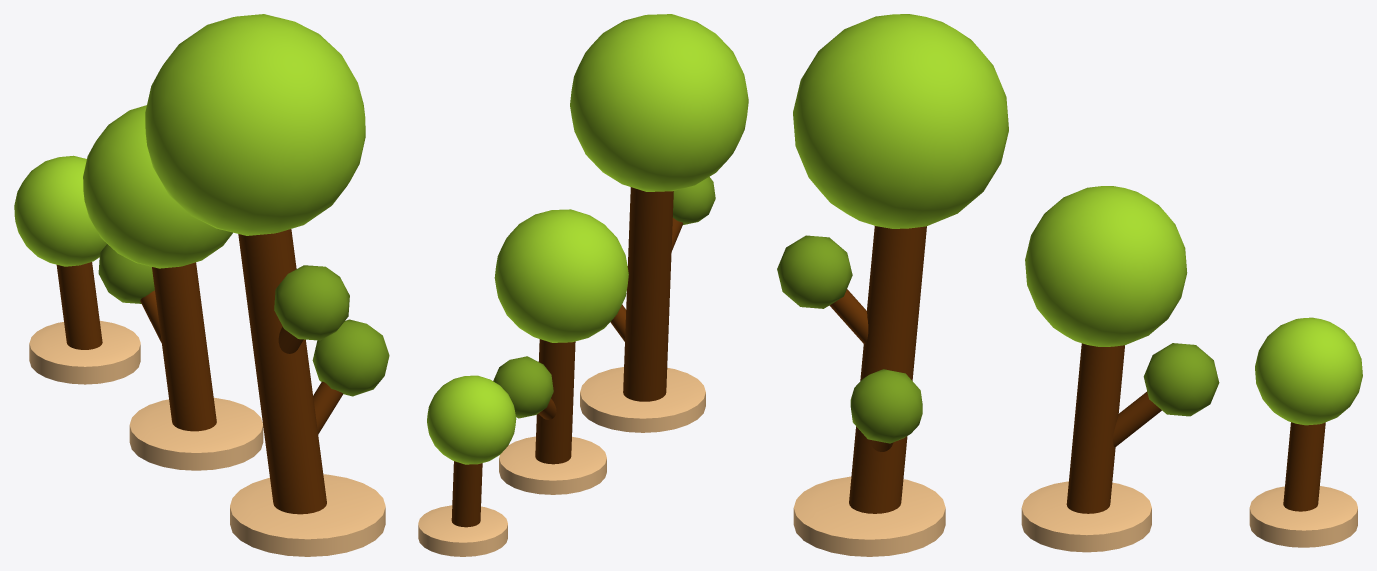
Rendered from Tree_Simple_Ek_LowPoly.fbx.
The picture shows the model from 3 angles, left to right: view 1: azimuth 30°, elevation 25°; view 2: azimuth 150°, elevation 25°; view 3: azimuth 270°, elevation 25°; orthographic projection. The views are drawn at different scales.
Visible parts, largest first — view 1: Oak_Large, Oak_Medium, Oak_Small; view 2: Oak_Large, Oak_Medium, Oak_Small; view 3: Oak_Large, Oak_Medium, Oak_Small.
Part boxes in pixels (bbox=[...]): Oak_Large: bbox=[145, 14, 389, 556]; Oak_Medium: bbox=[83, 105, 263, 470]; Oak_Small: bbox=[14, 155, 140, 384]; Oak_Large: bbox=[570, 14, 748, 432]; Oak_Medium: bbox=[493, 209, 628, 494]; Oak_Small: bbox=[418, 375, 516, 556]; Oak_Large: bbox=[777, 14, 1008, 556]; Oak_Medium: bbox=[1021, 186, 1219, 552]; Oak_Small: bbox=[1249, 317, 1362, 547].
Size of the model in its own units: 452 by 984 by 1080.
